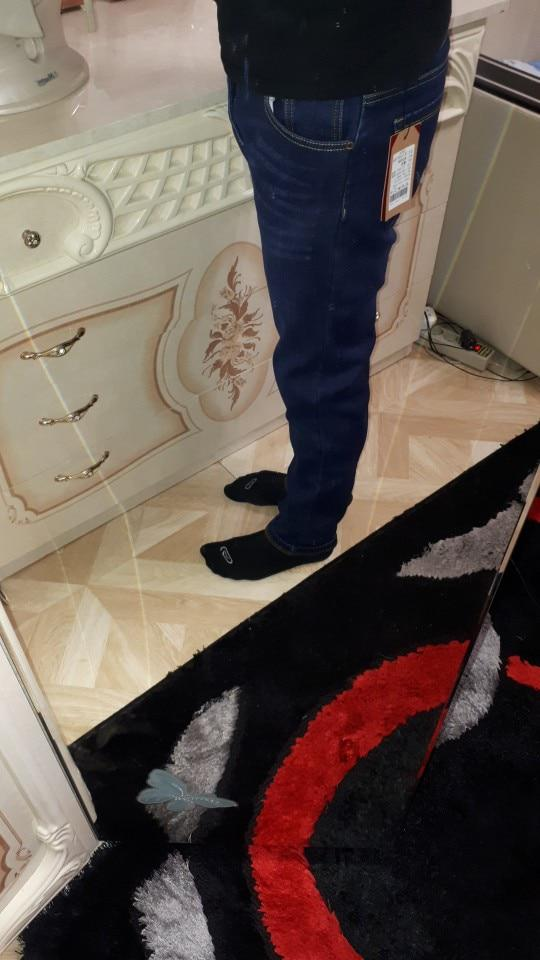jeans: (226, 73, 438, 509)
